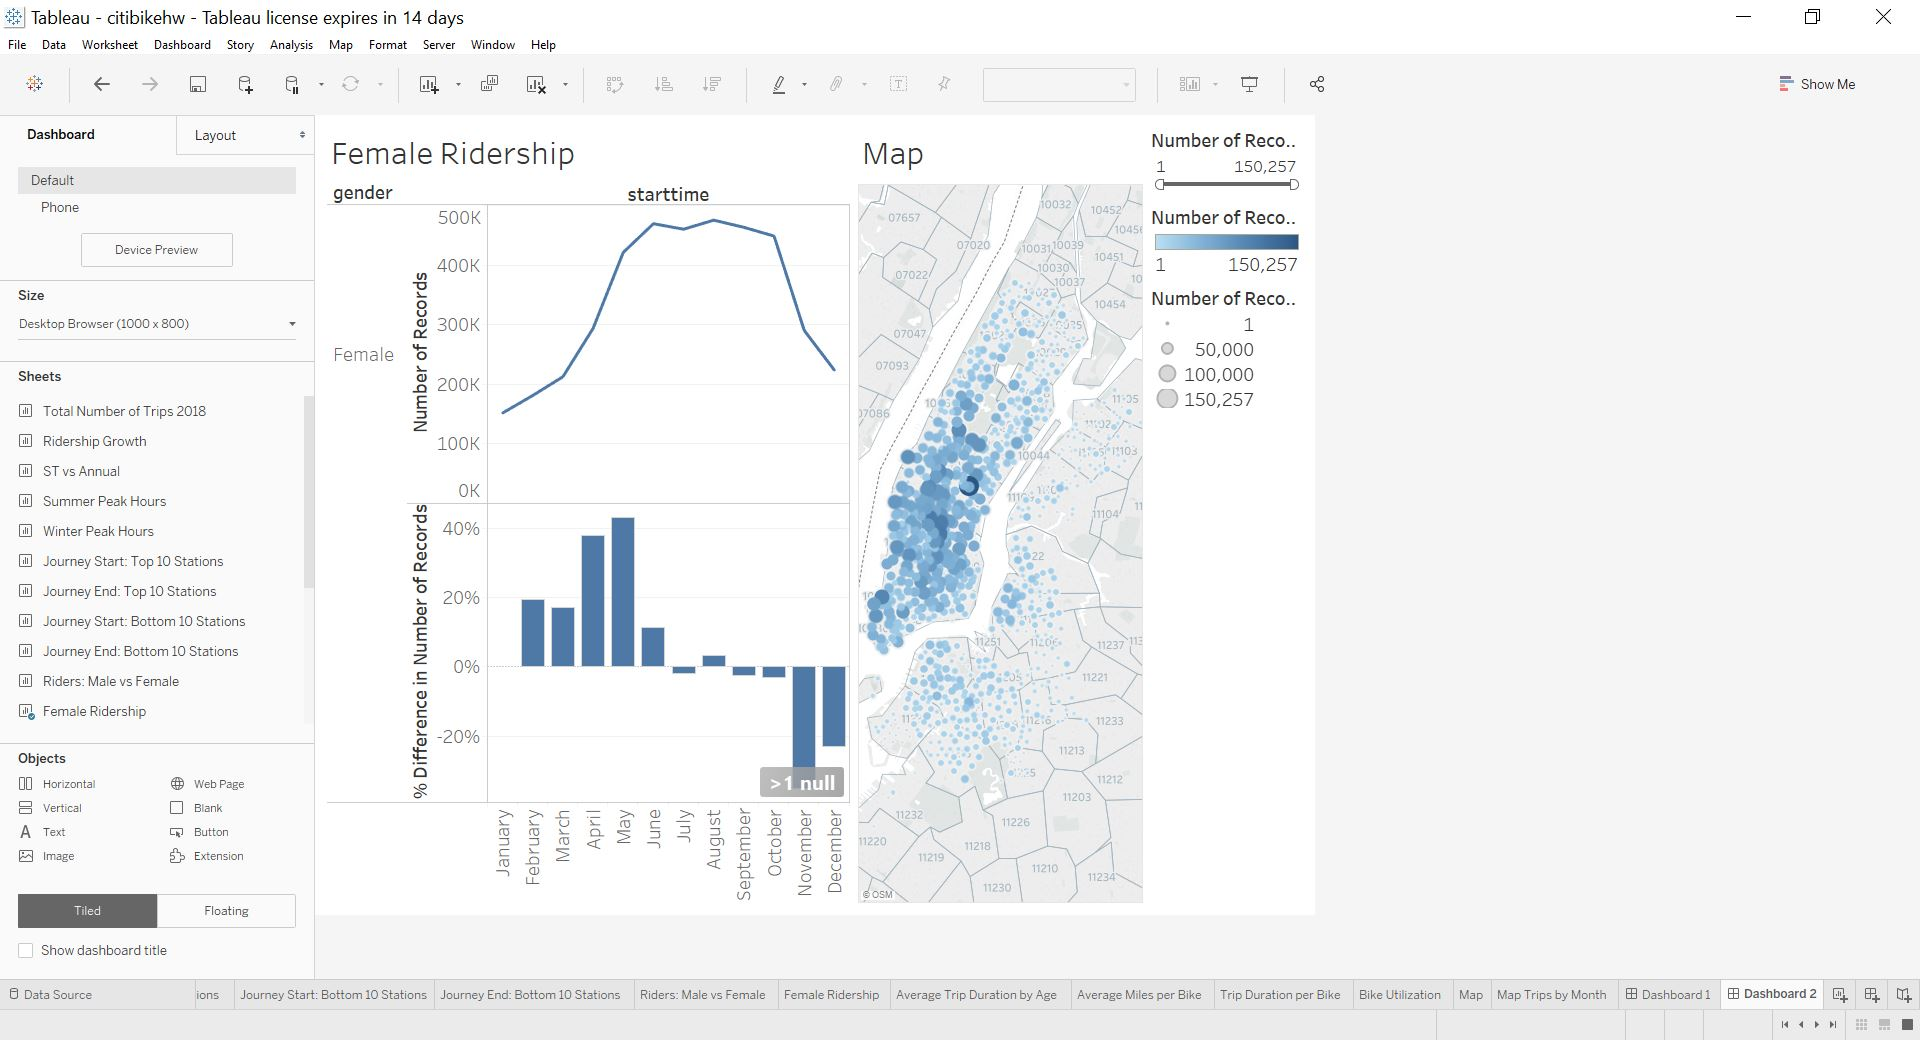

What the dashboard file says about the page in this screenshot:
{"tool":"tableau","page":{"name":"Dashboard 2","canvas":[1000,800],"ordinal":1},"visuals":[{"type":"worksheet","title":"Female Ridership","mark":"Line","rows":["gender","Number of Records","Number of Records"],"cols":["starttime"],"box":[8,8,531,784]},{"type":"worksheet","title":"Map","mark":"Automatic","rows":["start station latitude"],"cols":["start station longitude"],"box":[539,8,293,784]},{"type":"filter","title":"Map","param":"[federated.0n7j9q90gixayd187oot21m02kse].[sum:Number of Records:qk]","box":[832,8,160,77]},{"type":"legend","title":"Map","param":"[federated.0n7j9q90gixayd187oot21m02kse].[sum:Number of Records:qk]","box":[832,85,160,81]},{"type":"legend","title":"Map","param":"[federated.0n7j9q90gixayd187oot21m02kse].[sum:Number of Records:qk]","box":[832,166,160,134]}]}

Visuals, with their boxes on the page's 1000x800 design canvas (x1, y1, x2, y2). These are canvas units, not pixel positions in the 1920x1040 screenshot, which may show the page scaled, cropped or inside an application window:
"Female Ridership" worksheet (Line marks): bbox(8, 8, 539, 792)
"Map" worksheet: bbox(539, 8, 832, 792)
"Map" filter: bbox(832, 8, 992, 85)
"Map" legend: bbox(832, 85, 992, 166)
"Map" legend: bbox(832, 166, 992, 300)
